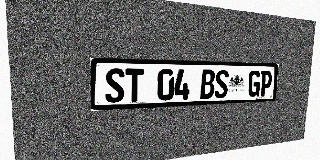0: (157, 69, 174, 101)
4: (174, 69, 190, 100)
B: (200, 70, 215, 99)
G: (248, 70, 261, 97)
P: (260, 70, 272, 96)
S: (105, 68, 125, 103), (214, 70, 229, 98)
T: (125, 69, 144, 102)
